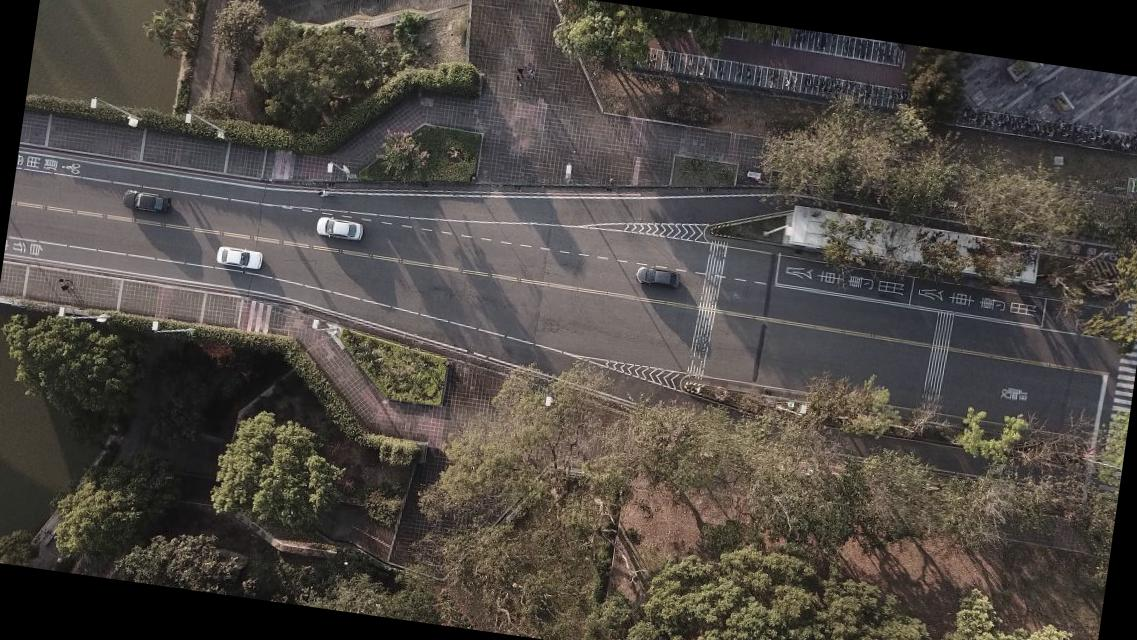vehicle: (315, 215, 365, 242), (216, 244, 264, 272), (122, 189, 172, 215), (635, 266, 681, 289)
